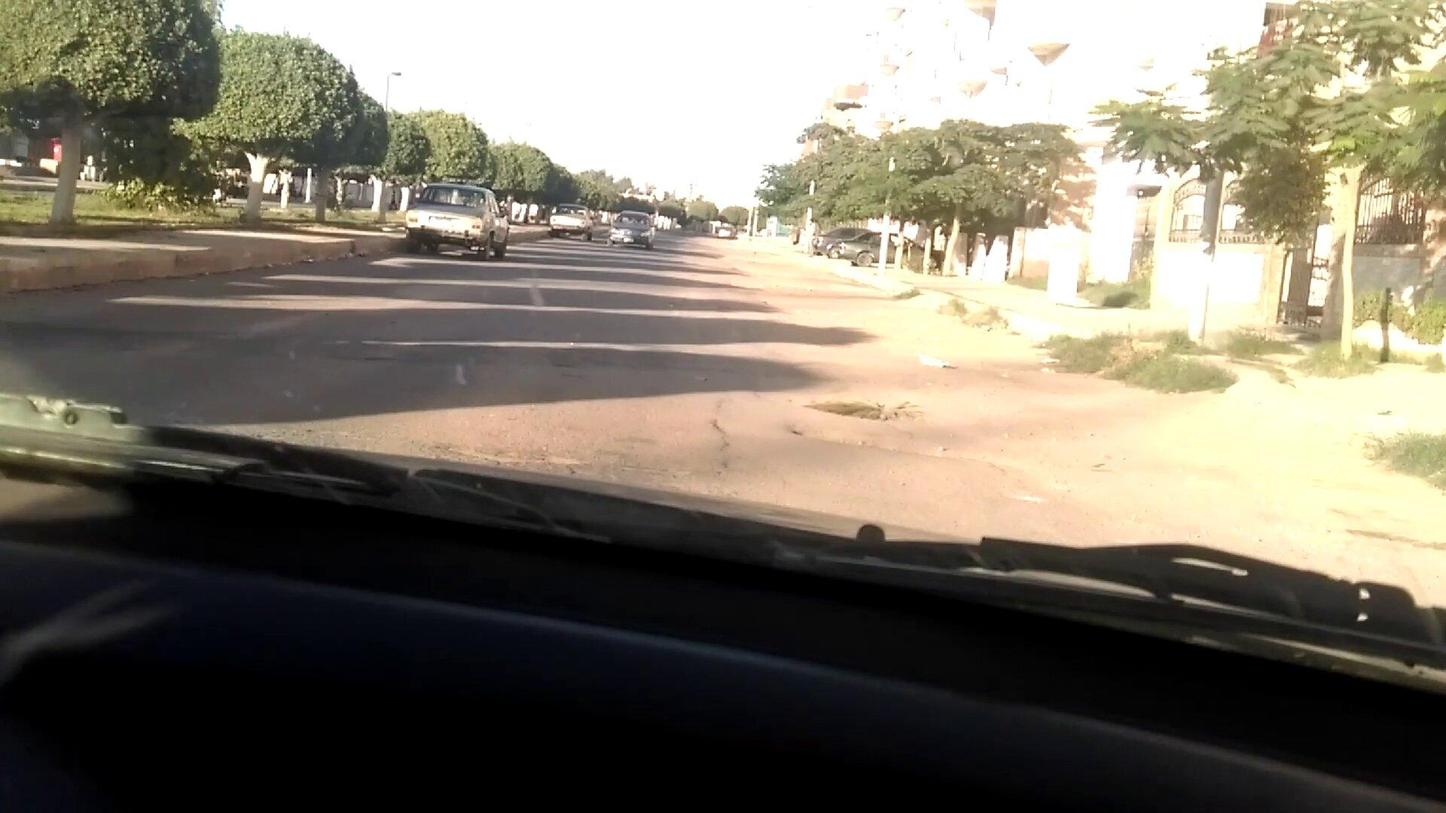Bump: (1, 318, 814, 379)
